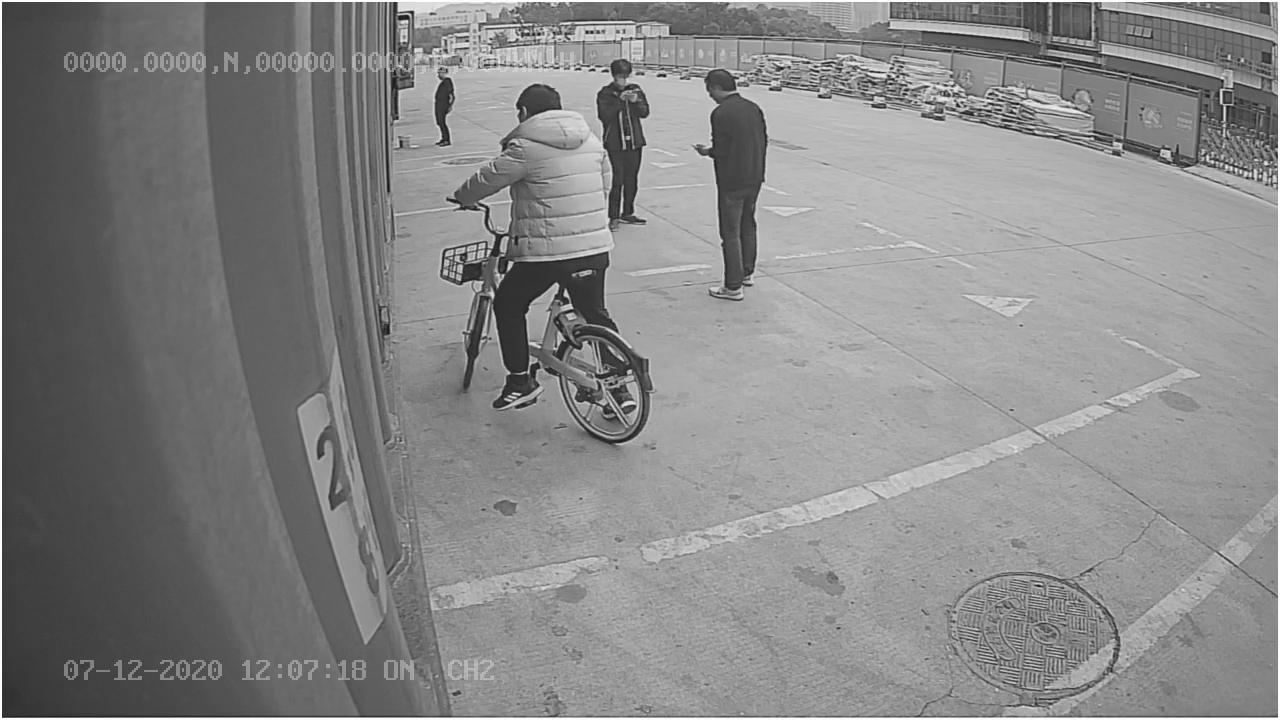person: (696, 66, 773, 303)
